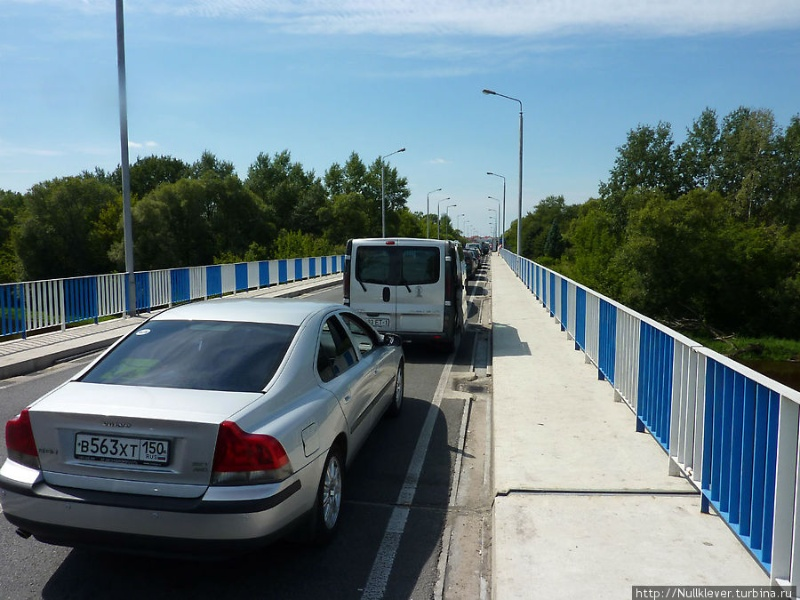car: (2, 298, 405, 546), (345, 237, 459, 347)
plate: (74, 432, 168, 467), (365, 318, 390, 329)
